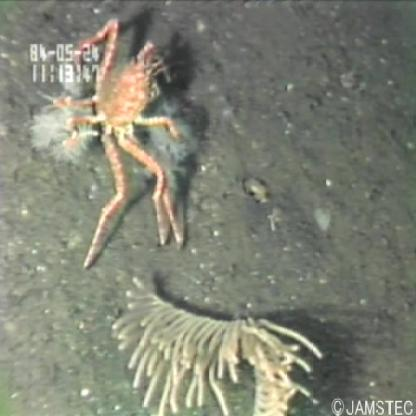Bio: (25, 13, 193, 272), (105, 266, 327, 416)
